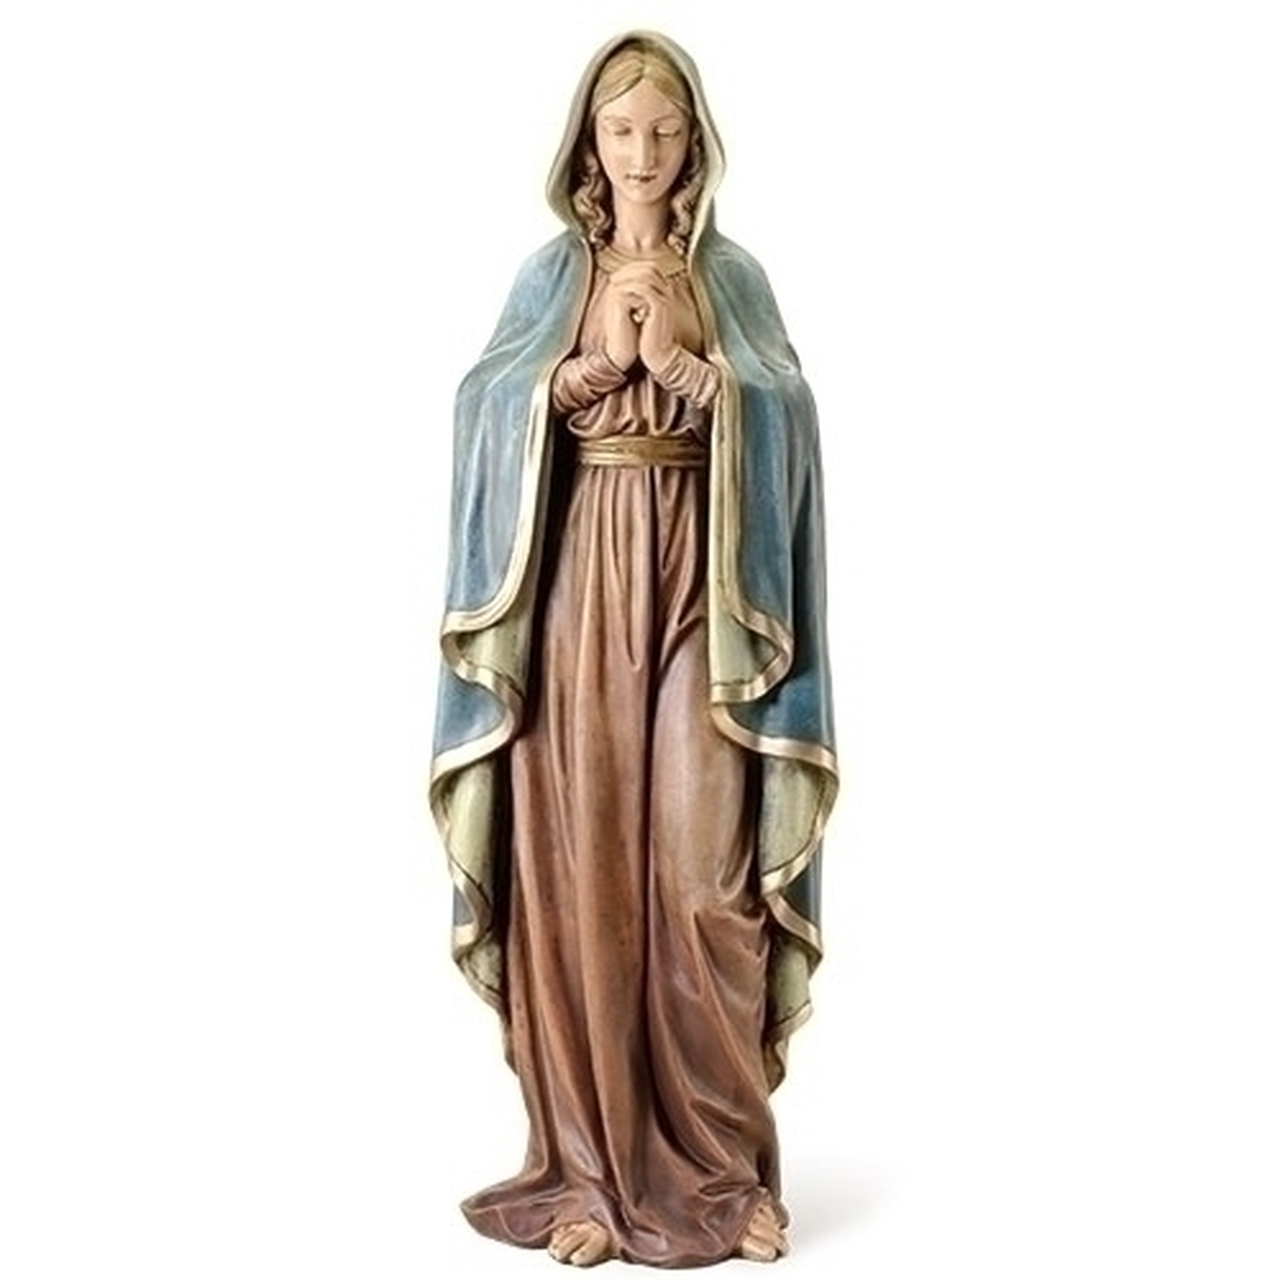person-like: (409, 20, 839, 1280)
